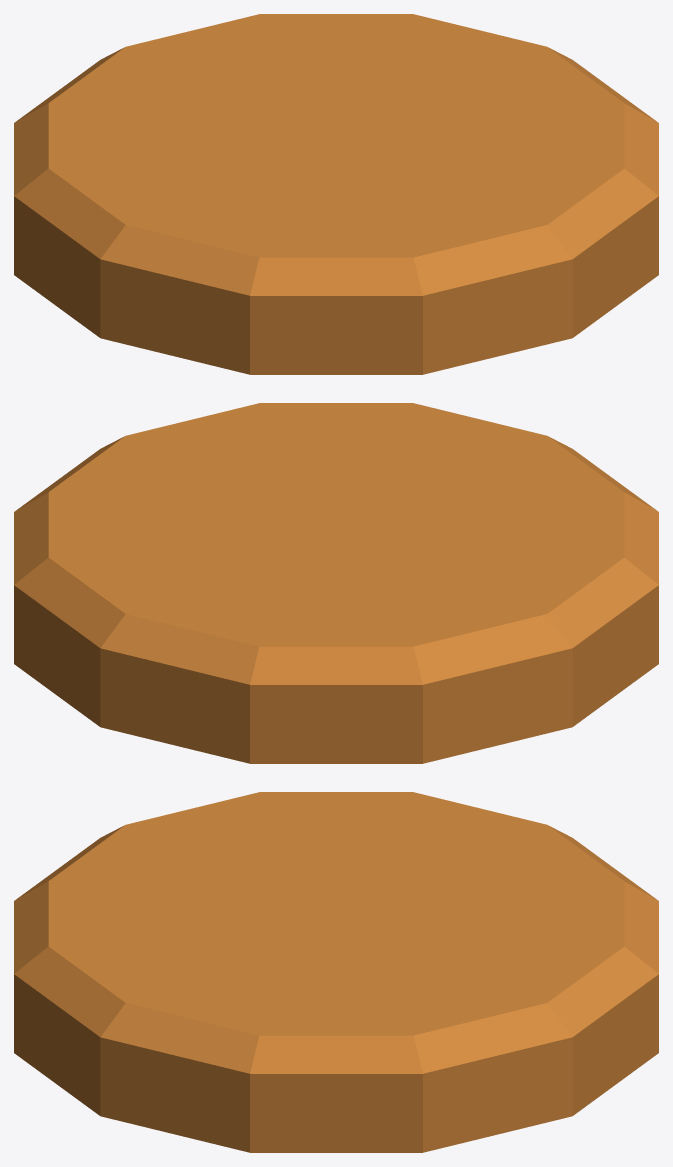
The model's file is CosmicTrail_écoutille.fbx.
3 renders of one model, top to bottom at view 1: azimuth 30°, elevation 25°; view 2: azimuth 150°, elevation 25°; view 3: azimuth 270°, elevation 25°, orthographic.
Visible parts, largest first — view 1: cylinder; view 2: cylinder; view 3: cylinder.
Part boxes in pixels (x1,y1,x2,y2): cylinder: (14,14,658,374); cylinder: (14,403,658,763); cylinder: (14,792,658,1152).
Size of the model in its own units: 46.25 by 8.12 by 46.25.
Materials: 2 (2 with a texture image).
